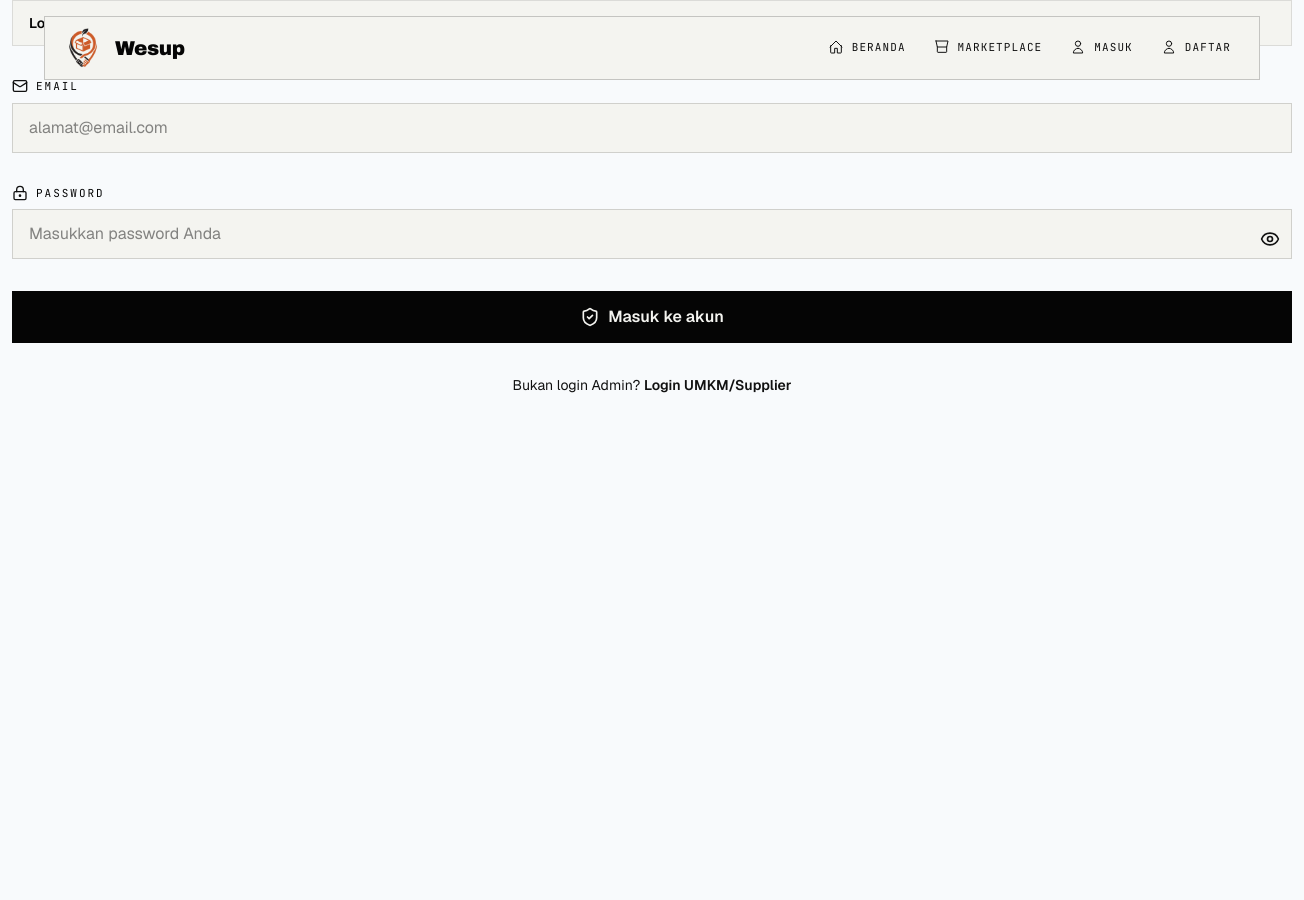
it: persistent navigation session › updates the shared menu when the actual login form succeeds
Type "fixture@example.com" into the field labelled "Email".
click(652, 128); type("fixture@example.com")  # box [12,102,1292,152]
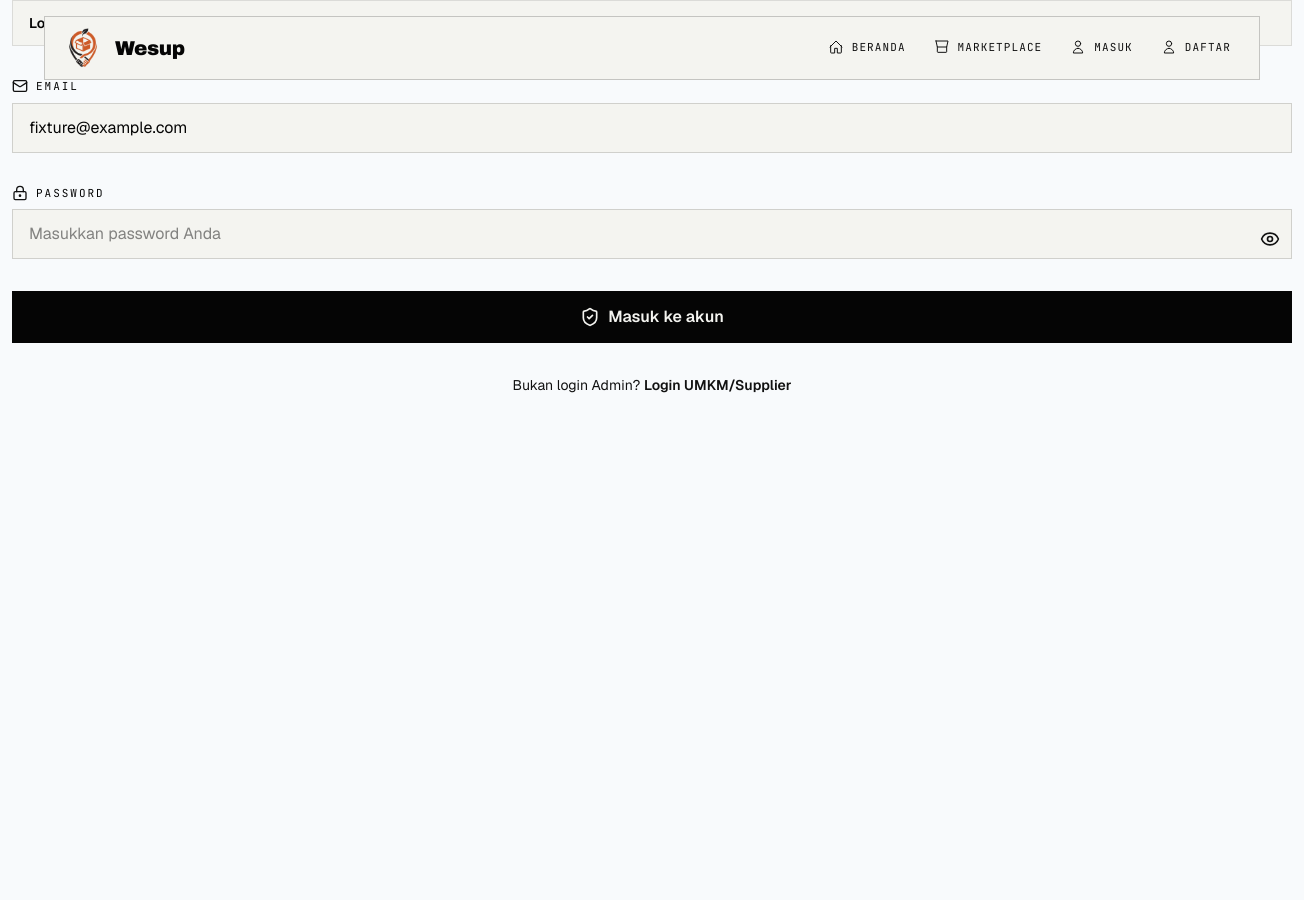
Type "fixture-password" into the password field labelled "Password".
click(652, 234); type("fixture-password")  # box [12,209,1292,259]
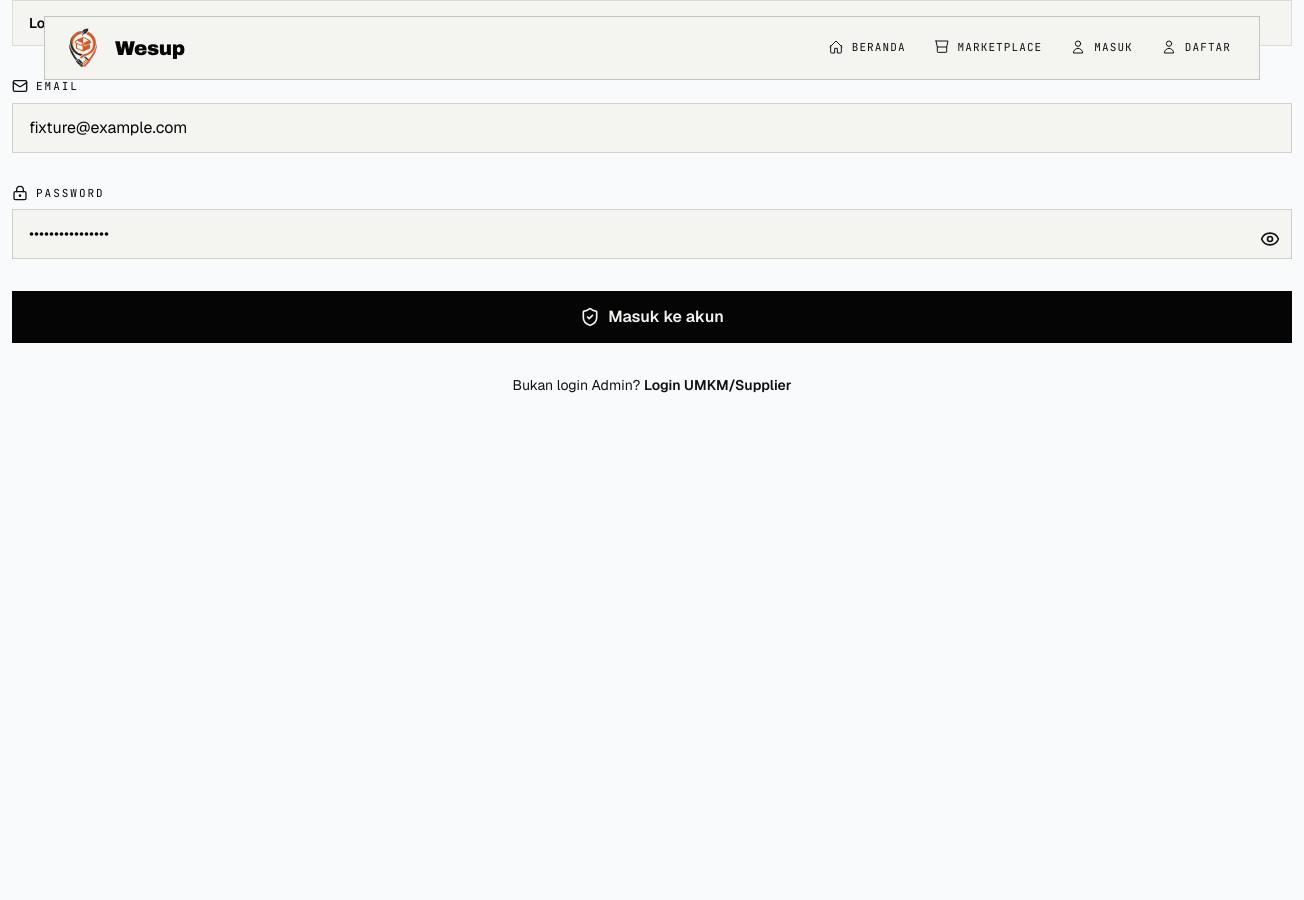
Click the button "Masuk ke akun".
click(652, 317)  # box [12,291,1292,343]
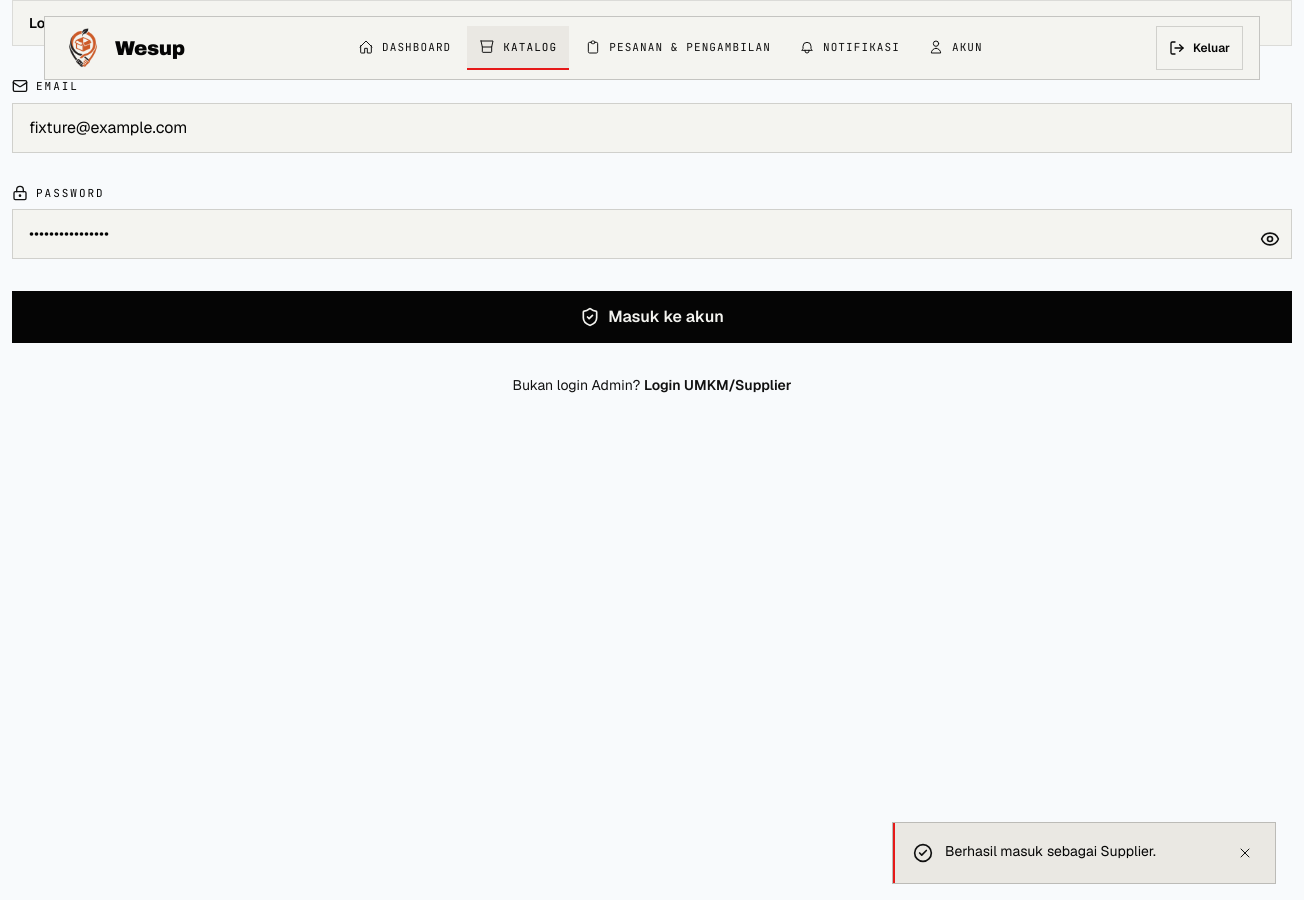
Result: the number of links "Katalog" is 2
